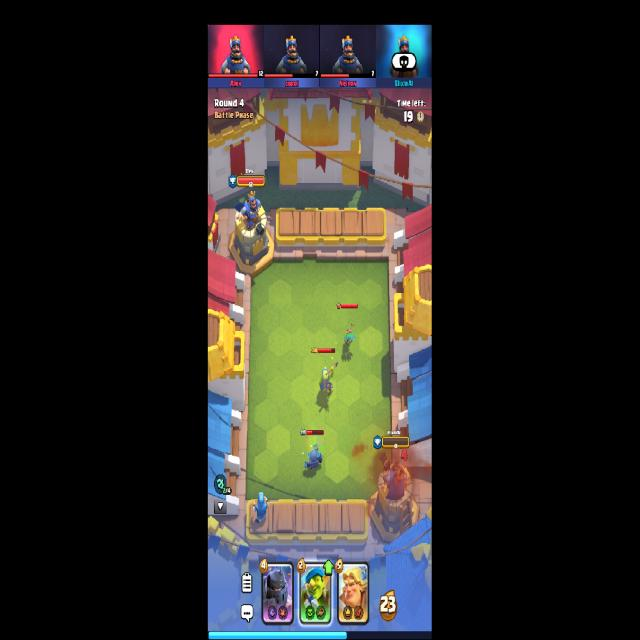card_golden_knight: (338, 561, 370, 626)
card_mega_knight: (261, 561, 294, 626)
card_spear_goblin: (299, 560, 332, 626)
dart_goblin: (344, 322, 356, 344)
mini_pekka: (303, 444, 322, 473)
spear_goblin: (319, 362, 339, 395)
wizard: (253, 492, 268, 523)
